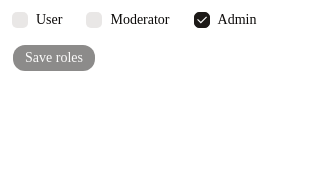
Test: RolesForm › shows the API error
The image size is (332, 172).
Click the checkbox named "user" next to "user".
click(20, 20)  # box 12,12 -> 28,28
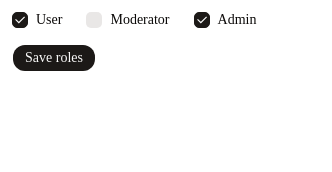
Click the button "Save roles".
click(54, 58)  # box 12,44 -> 96,72
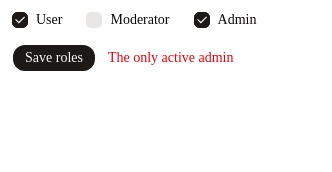
Now the message reads "The only active admin", box 108,50 -> 234,65
